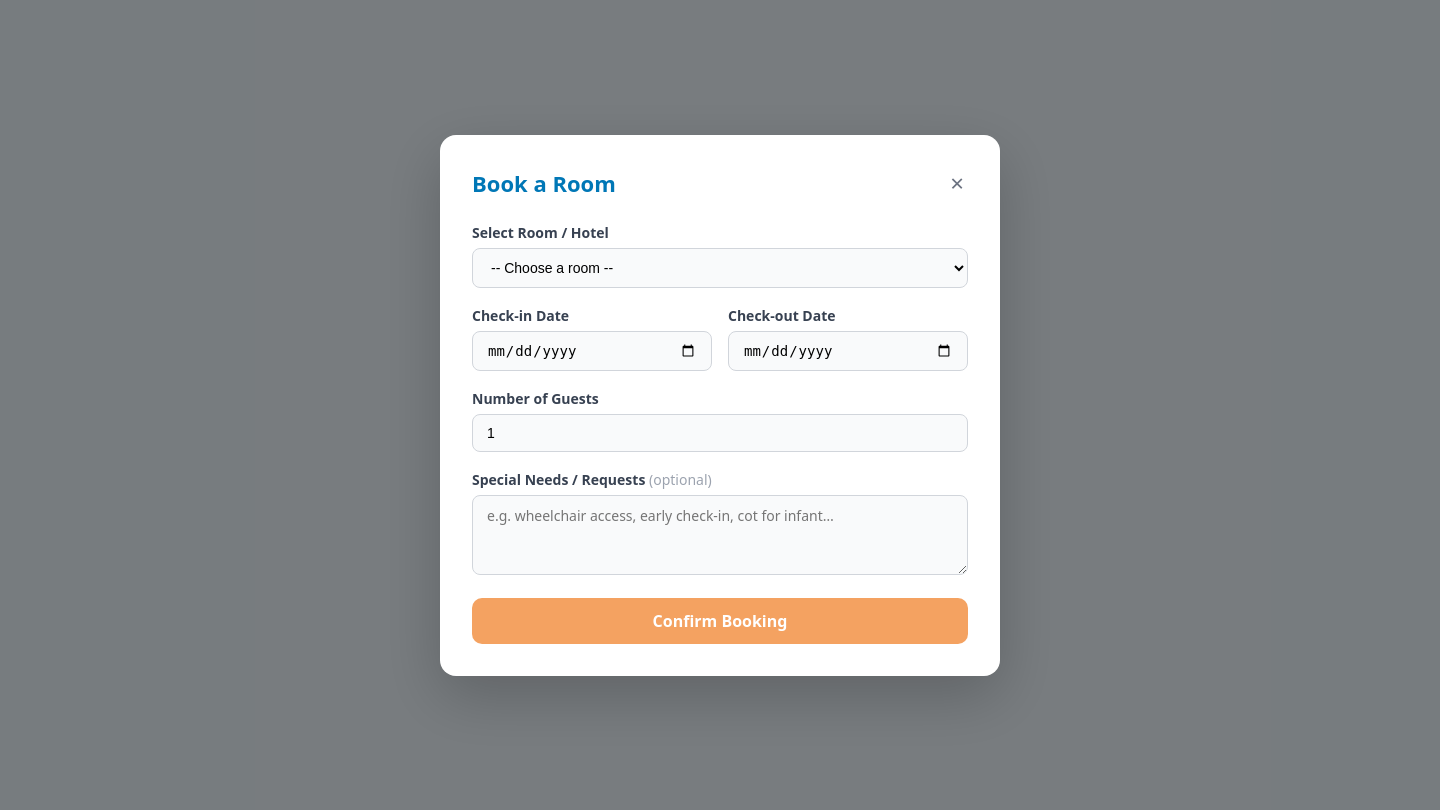
it: BookingModal › validation › shows an error when no room is selected
Click the button "Confirm Booking": x=720, y=620 [472,598,968,644]
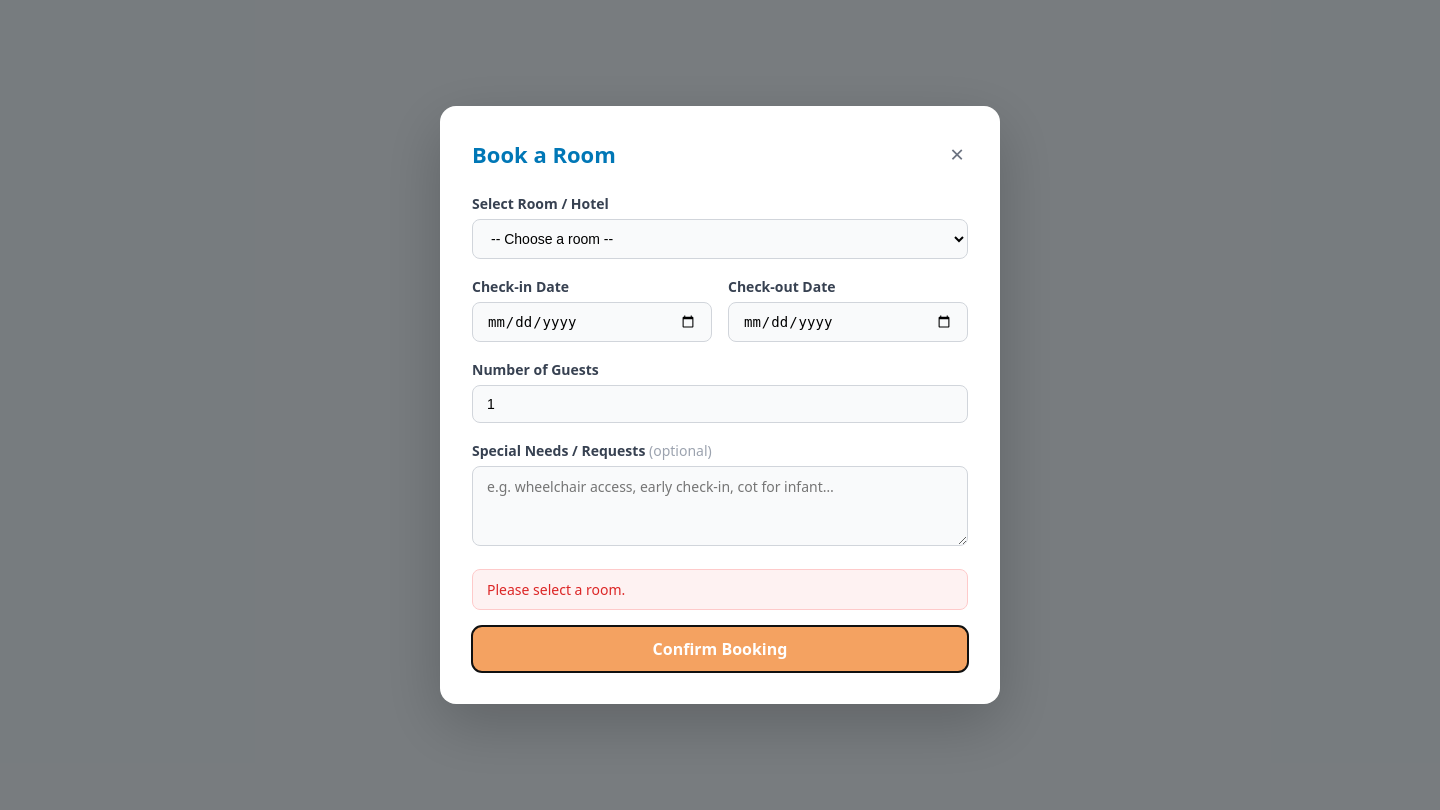
Result: the text "Please select a room." is shown at [472,569,968,610]
